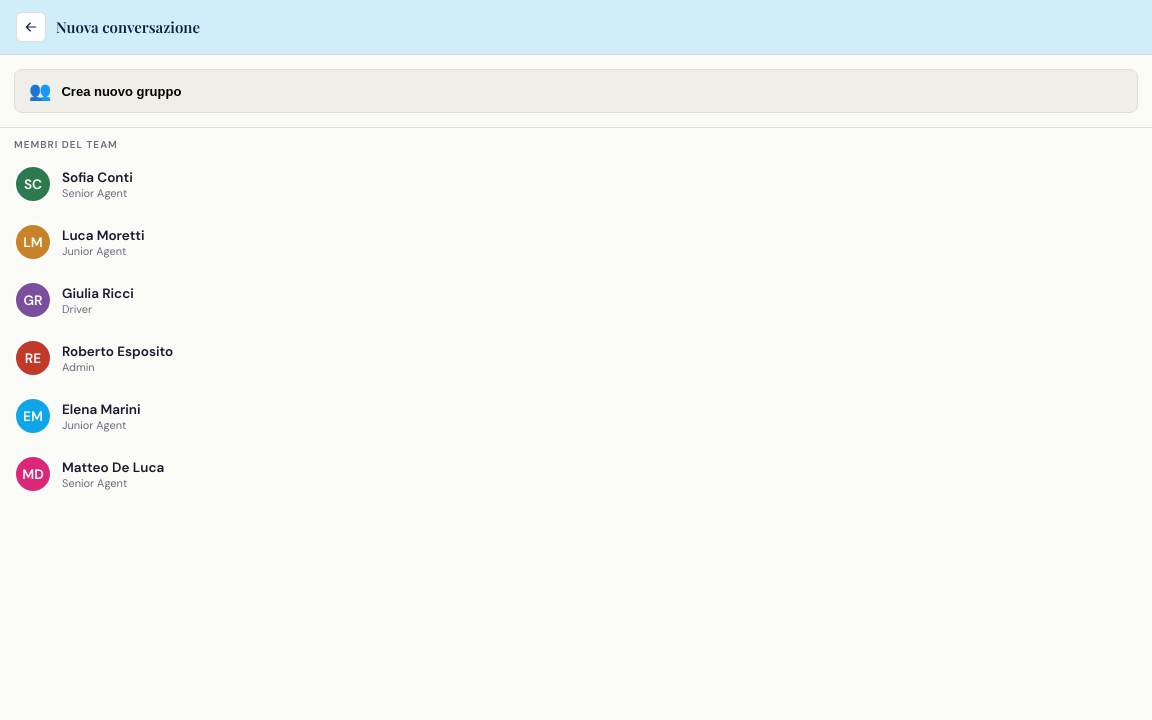
NewConversationView — le due condizioni del gruppo, dette una per una › il comando è premibile e dice ENTRAMBE le condizioni, col focus sulla prima
Click the button "👥 Crea nuovo gruppo". click: (121, 91)
box: [14,69,1138,113]
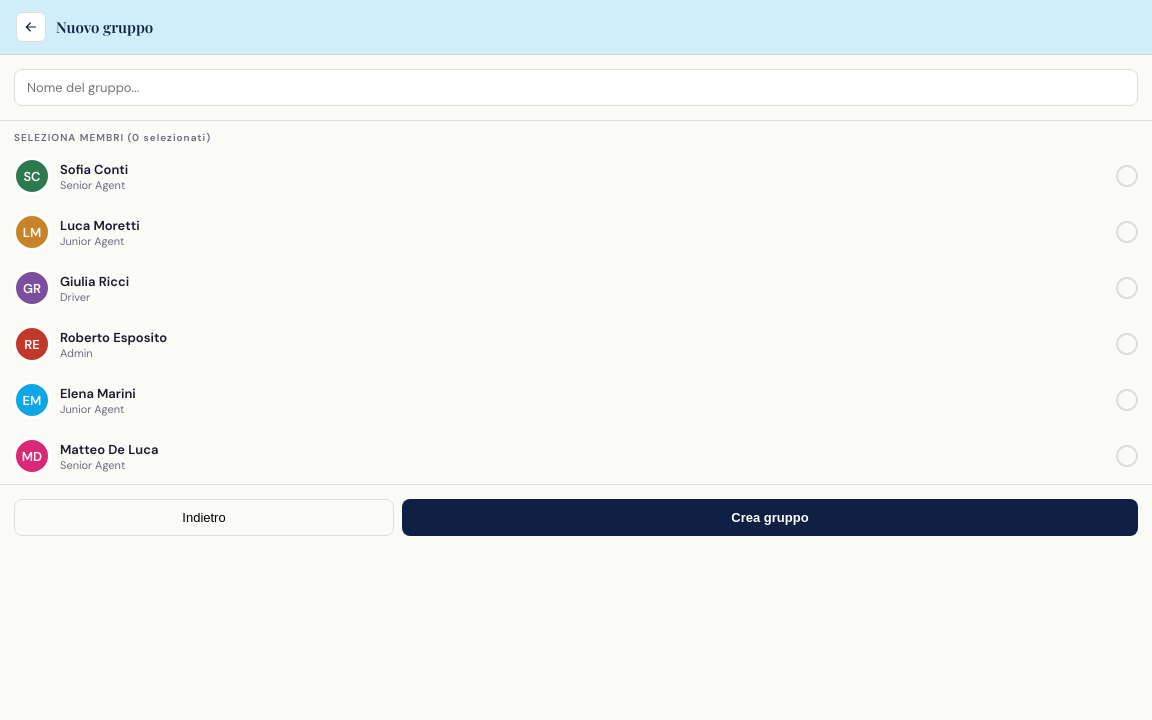
Result: the button "Crea gruppo" is enabled
Click the button "Crea gruppo". click: (770, 518)
box: [402,499,1138,536]
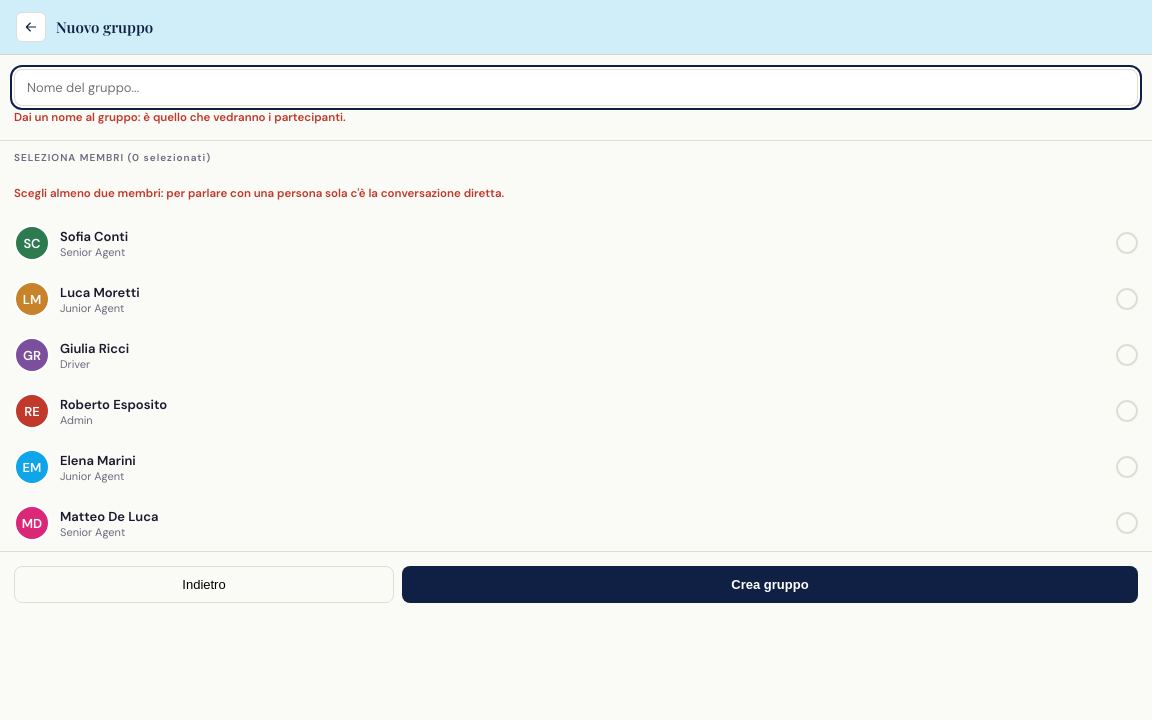
Result: the message "Dai un nome al gruppo: è quello che vedranno i partecipanti." is shown at [14,110,346,125]
